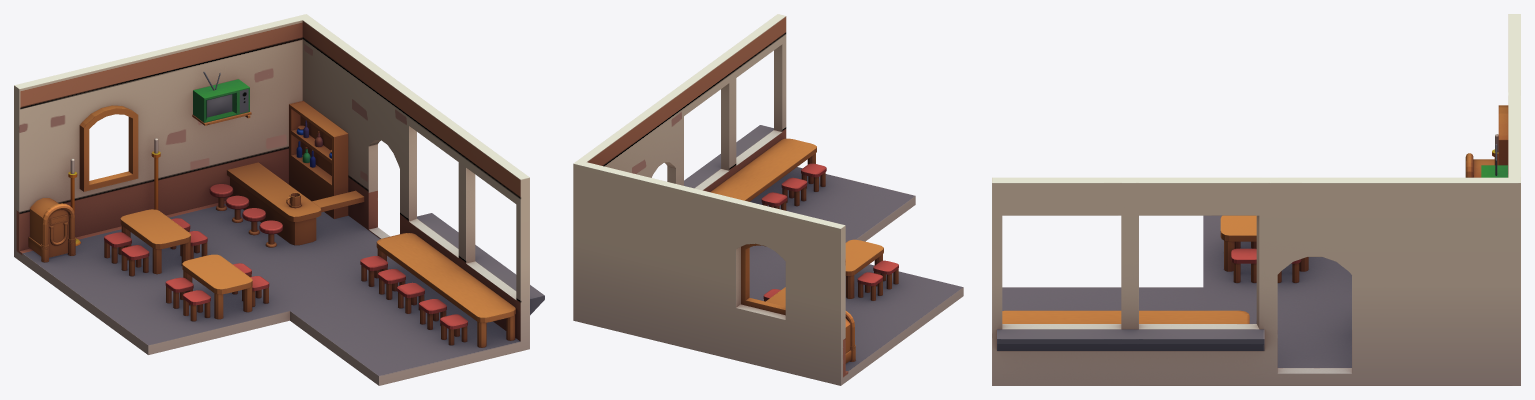
Rendered from Restaurant.fbx.
The picture shows the model from 3 angles, left to right: view 1: azimuth 30°, elevation 25°; view 2: azimuth 150°, elevation 25°; view 3: azimuth 270°, elevation 25°; orthographic projection. The views are drawn at different scales.
Parts seen in each view (by area): view 1: Cube; view 2: Cube; view 3: Cube.
Boxes of the visible parts, box(x1,y1,x2,y2) form: Cube: box(14, 14, 544, 385); Cube: box(573, 14, 963, 385); Cube: box(992, 14, 1520, 385).
Size of the model in its own units: 465 by 246 by 581.
Materials: 2 (2 with a texture image).
